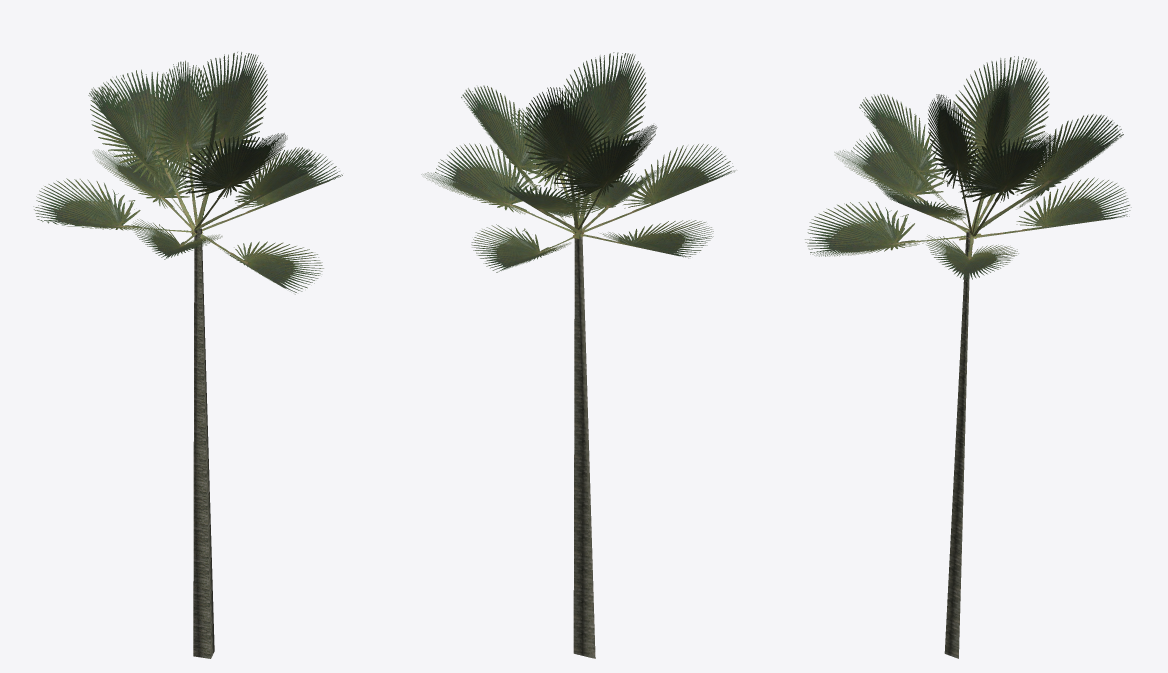
Rendered from ever_palmtree_med_l2.fbx.
3 views of the same model, side by side, from view 1: azimuth 30°, elevation 25°; view 2: azimuth 150°, elevation 25°; view 3: azimuth 270°, elevation 25° (orthographic). The views are drawn at different scales.
Visible parts, largest first — view 1: mesh_node; view 2: mesh_node; view 3: mesh_node.
Part boxes in pixels (x1=…): mesh_node: x1=33, y1=52, x2=342, y2=658; mesh_node: x1=421, y1=52, x2=735, y2=658; mesh_node: x1=805, y1=56, x2=1131, y2=658.
Bounding box in the file's own units: 10.49 × 18.77 × 10.49.
2 materials, 2 textured.
